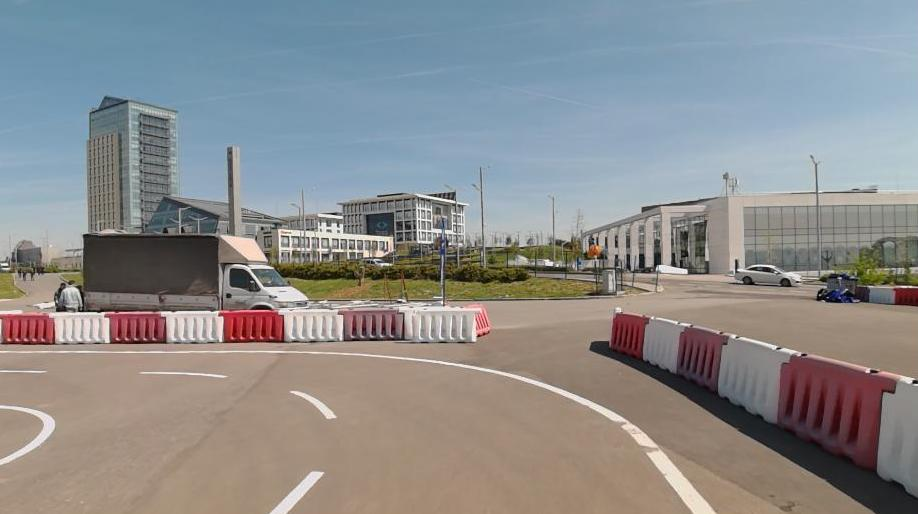nesne: (0, 351, 716, 514), (0, 350, 714, 513), (1, 352, 714, 514), (0, 370, 342, 514), (81, 232, 312, 310), (778, 349, 900, 470), (716, 334, 791, 423), (876, 377, 917, 498), (677, 323, 727, 388), (1, 405, 55, 465), (400, 308, 479, 342), (643, 317, 686, 373), (270, 471, 324, 513), (337, 307, 403, 341), (220, 309, 284, 342), (281, 308, 343, 342), (161, 311, 224, 343), (49, 311, 110, 342), (735, 262, 803, 289), (107, 311, 165, 342), (609, 312, 648, 356), (2, 312, 56, 343), (289, 389, 336, 419), (140, 370, 228, 378), (472, 305, 492, 336), (870, 285, 896, 304), (897, 286, 916, 305), (1, 369, 44, 373)
